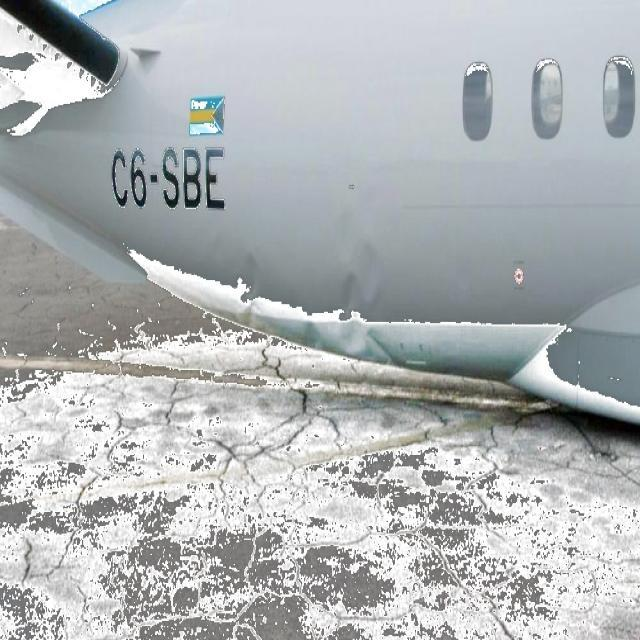dent: (325, 179, 381, 360), (234, 241, 270, 349)
